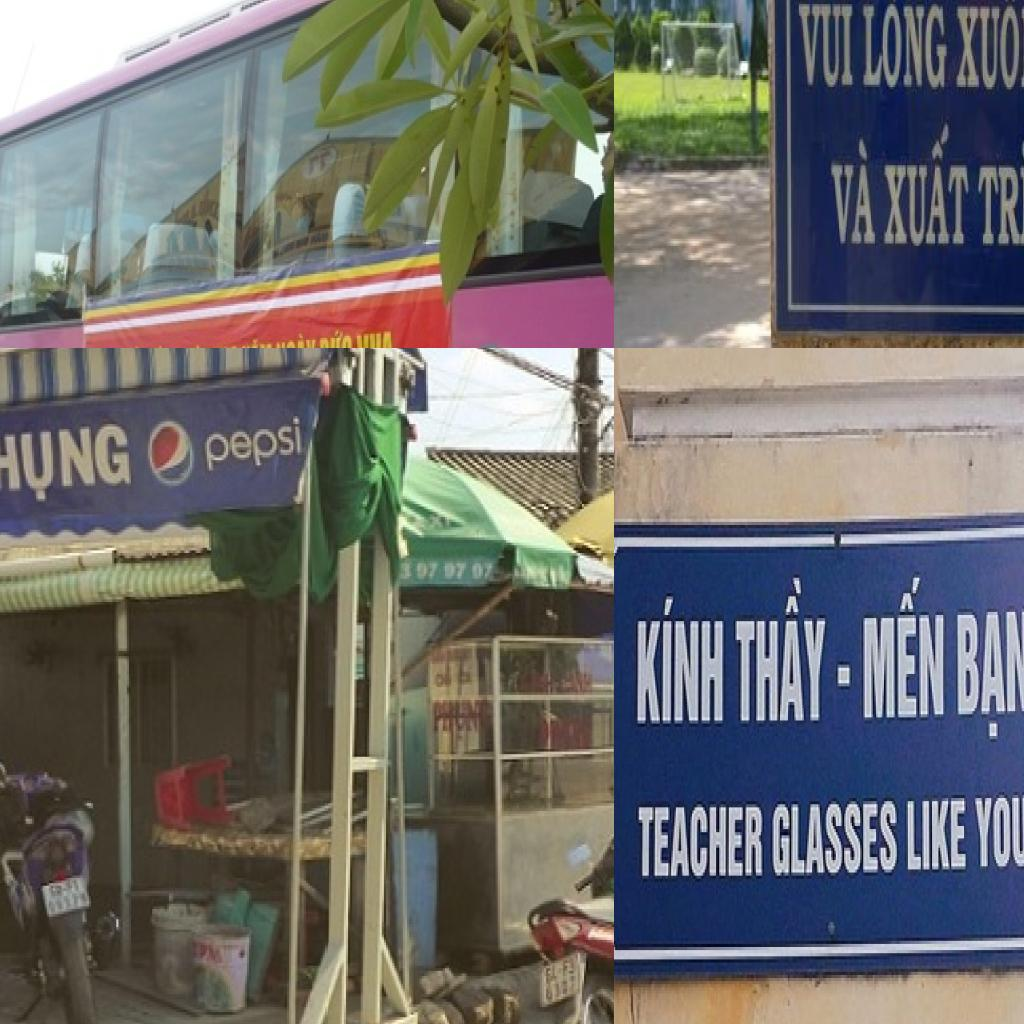text: (727, 562, 836, 746), (626, 584, 730, 745), (855, 568, 950, 736), (766, 786, 904, 900), (634, 795, 769, 897), (878, 122, 976, 250), (0, 421, 137, 511), (949, 596, 1024, 751), (860, 0, 950, 94), (201, 414, 310, 481), (903, 779, 969, 888), (952, 0, 1024, 94), (826, 134, 880, 248), (971, 134, 1024, 250), (794, 0, 856, 91), (394, 558, 500, 589), (190, 940, 230, 971), (273, 329, 320, 348), (355, 327, 397, 348), (317, 329, 357, 348), (237, 338, 275, 348)
